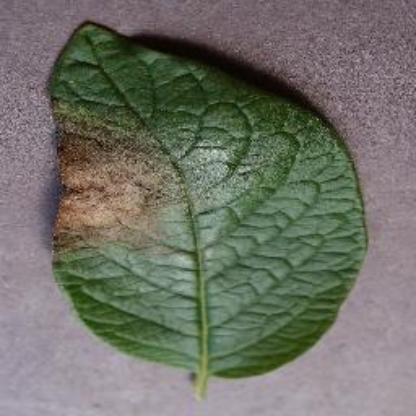Late-Blight: (46, 19, 372, 398)
